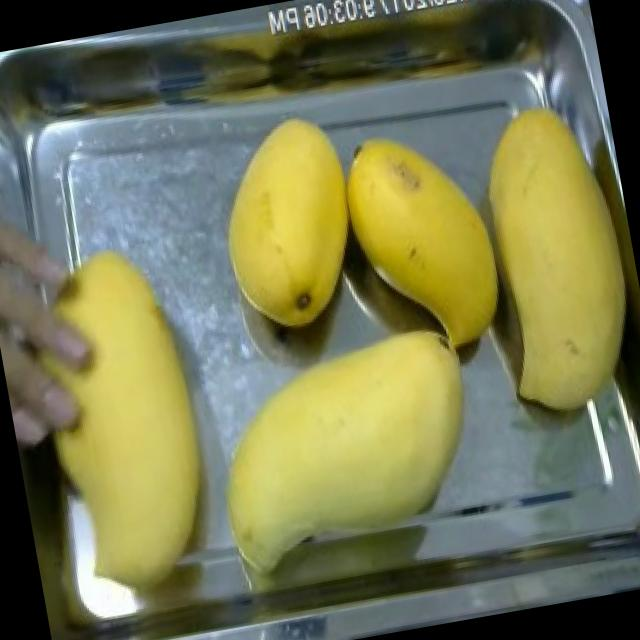fruit: (0, 200, 266, 628), (185, 310, 502, 574), (453, 81, 640, 434), (326, 110, 524, 372), (190, 100, 381, 358)
